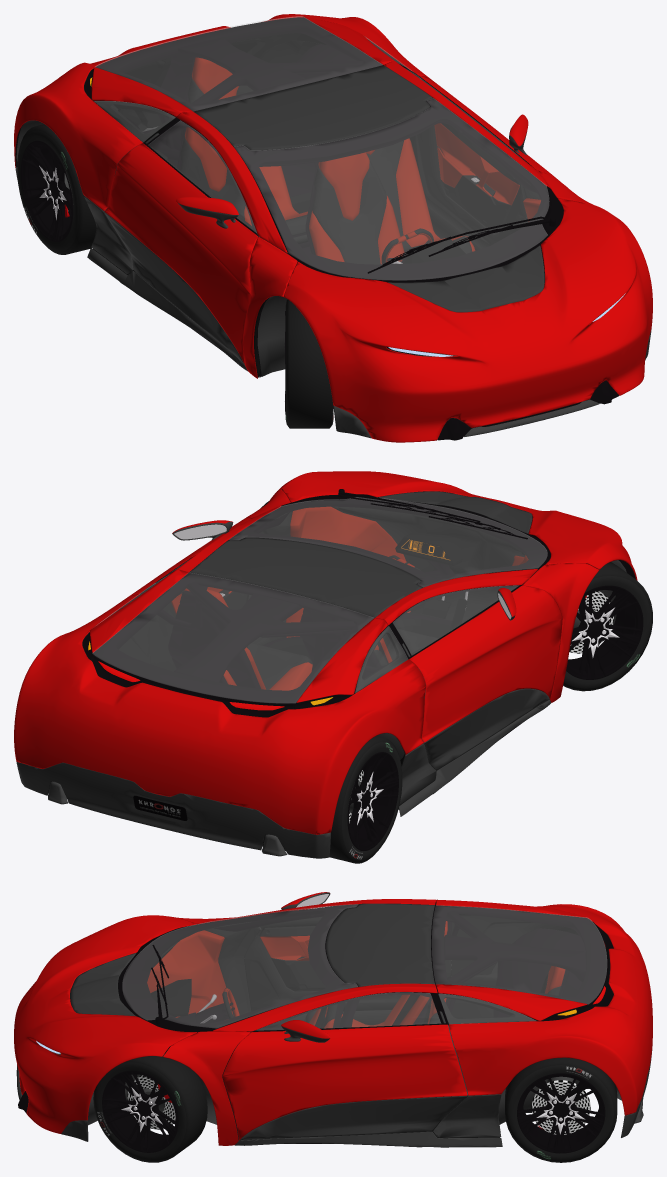
The model's file is cockpit-interior.draco.glb.
3 renders of one model, top to bottom at view 1: azimuth 30°, elevation 25°; view 2: azimuth 150°, elevation 25°; view 3: azimuth 270°, elevation 25°, orthographic. The views are drawn at different scales.
Visible parts, largest first — view 1: BodyHood, BodyWindshield, BodyRearwindow, BodyDoorRColor1, BodyRearPanelsColor1, BodyRoofPanel, BodyWindshieldGasket, InteriorSeatsColor1, InteriorSeatsColor2, BodyPillars, InteriorPillar, InteriorRearHatch (+21 smaller); view 2: BodyRearPanelsColor1, BodyRearwindow, BodyWindshield, BodyDoorRColor1, BodyPanelsColor2, BodyRoofPanel, BodyHood, InteriorRearHatch, BodyPillars, InteriorPillar, BodyWindshieldGasket, InteriorDashMid (+22 smaller); view 3: BodyRearPanelsColor1, BodyWindshield, BodyDoorLColor1, BodyHood, BodyRearwindow, BodyRoofPanel, BodyPillars, BodyWindshieldGasket, BodyDoorLColor2, BodyPanelsColor2, object 84, InteriorRearHatch (+25 smaller).
Boxes of the visible parts, box(x1,y1,x2,y2) form: BodyHood: box(283, 198, 652, 442); BodyWindshield: box(234, 98, 549, 280); BodyRearwindow: box(95, 16, 382, 110); BodyDoorRColor1: box(104, 143, 257, 363); BodyRearPanelsColor1: box(14, 14, 428, 210); BodyRoofPanel: box(193, 65, 432, 150); BodyWindshieldGasket: box(234, 99, 563, 282); InteriorSeatsColor1: box(185, 57, 475, 264); InteriorSeatsColor2: box(180, 78, 472, 264); BodyPillars: box(176, 61, 598, 378); InteriorPillar: box(158, 37, 434, 168); InteriorRearHatch: box(93, 17, 383, 117); BodyRearPanelsColor1: box(14, 569, 425, 834); BodyRearwindow: box(92, 573, 373, 703); BodyWindshield: box(229, 497, 547, 587); BodyDoorRColor1: box(409, 585, 562, 742); BodyPanelsColor2: box(16, 700, 550, 858); BodyRoofPanel: box(189, 537, 422, 617); BodyHood: box(279, 471, 637, 580); InteriorRearHatch: box(93, 573, 386, 707); BodyPillars: box(175, 489, 599, 702); InteriorPillar: box(174, 574, 417, 682); BodyWindshieldGasket: box(230, 497, 550, 587); InteriorDashMid: box(331, 502, 528, 622); BodyRearPanelsColor1: box(436, 899, 652, 1115); BodyWindshield: box(122, 904, 357, 1028); BodyDoorLColor1: box(222, 1024, 467, 1139); BodyHood: box(14, 915, 196, 1133); BodyRearwindow: box(432, 905, 606, 1003); BodyRoofPanel: box(326, 903, 434, 986); BodyPillars: box(163, 899, 437, 1145); BodyWindshieldGasket: box(118, 905, 357, 1032); BodyDoorLColor2: box(240, 1096, 467, 1140); BodyPanelsColor2: box(16, 1050, 652, 1147); object 84: box(93, 1054, 207, 1162); InteriorRearHatch: box(431, 905, 606, 1020).
Size of the model in its own units: 2.54 by 1.15 by 4.36.
23 materials, 6 textured.
